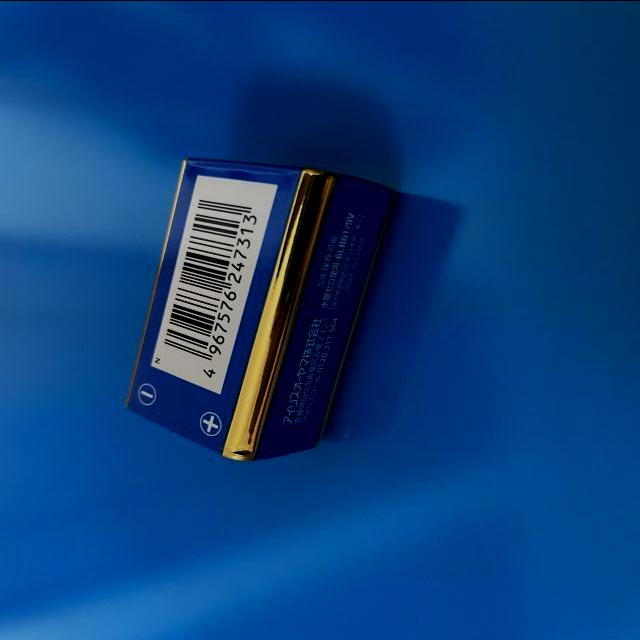9V: (121, 157, 400, 462)
